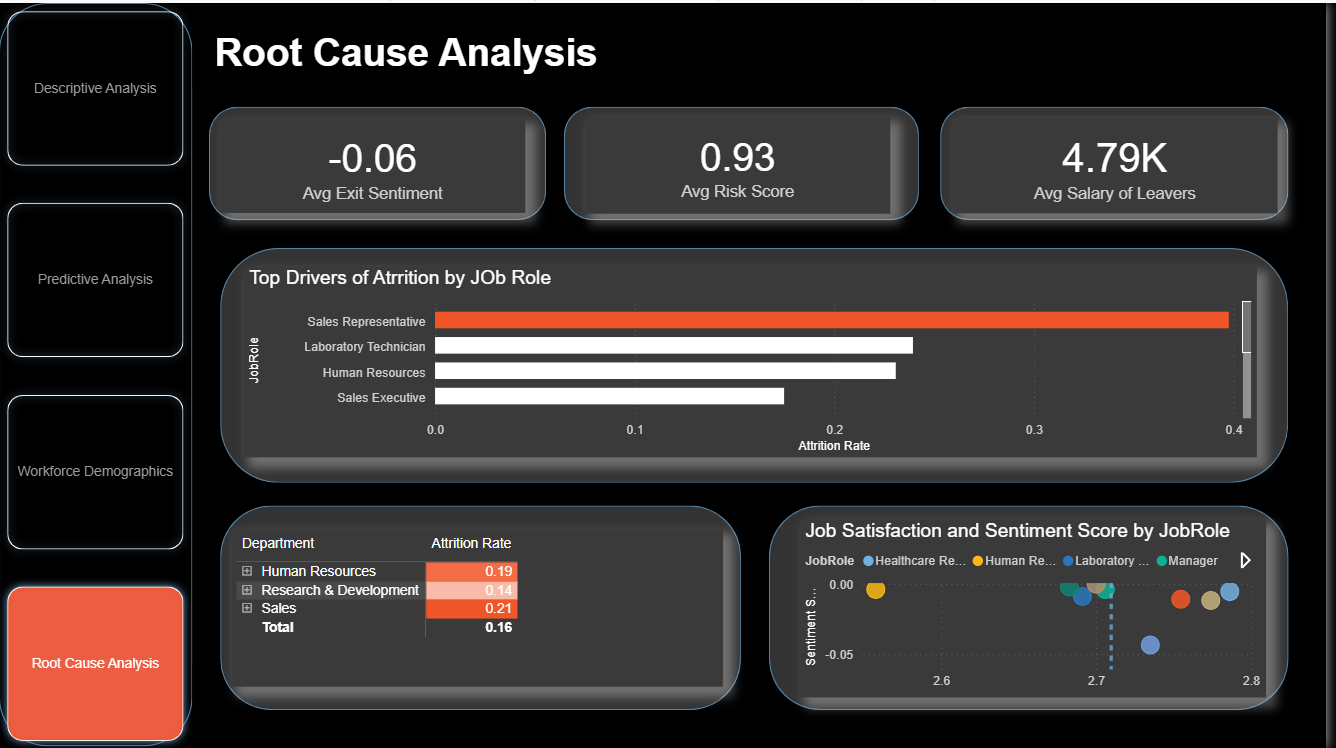

This screenshot's page, from the dashboard's own definition file:
{"tool":"powerbi","page":{"name":"Root Cause Analysis","canvas":[1280,720],"ordinal":3},"visuals":[{"type":"textbox","box":[202.7,21.3,1041.3,57.3],"z":2000},{"type":"shape","box":[742.7,485.3,501.3,197.3],"z":4000},{"type":"shape","box":[0,0,186.7,717.3],"z":5000},{"type":"shape","box":[213.3,485.3,502.7,197.3],"z":6000},{"type":"shape","box":[213.3,236,1030.7,226.7],"z":7000},{"type":"clusteredBarChart","title":"Top Drivers of Atrrition by JOb Role","fields":{"Category":["hr_project employee_data.JobRole"],"Y":["hr_project employee_data.Attrition Rate"]},"box":[236,254.7,977.3,184],"z":8000},{"type":"scatterChart","fields":{"X":["Avg(hr_project employee_data.JobSatisfaction)"],"Y":["Avg(hr_project ml_scores.SentimentScore)"],"Series":["hr_project employee_data.JobRole"]},"box":[773.3,498.7,449.3,172],"z":9000},{"type":"pivotTable","fields":{"Rows":["hr_project employee_data.Department","hr_project employee_data.JobRole","hr_project employee_data.WorkLifeBalance"],"Values":["hr_project employee_data.Attrition Rate"]},"box":[224,508,474.7,152],"z":10000},{"type":"shape","box":[202.7,100,325.3,109.3],"z":11000},{"type":"shape","box":[545.3,100,342.7,109.3],"z":13000},{"type":"shape","box":[908,100,336,109.3],"z":14000},{"type":"card","fields":{"Values":["Avg(hr_project ml_scores.FlightRiskScore)"]},"box":[565.3,109.3,294.7,93.3],"z":14250},{"type":"card","fields":{"Values":["Avg(hr_project ml_scores.SentimentScore)"]},"box":[213.3,112,294.7,90.7],"z":14375},{"type":"card","fields":{"Values":["Avg(hr_project employee_data.MonthlyIncome)"]},"box":[920,110.7,313.3,92],"z":14500},{"type":"pageNavigator","box":[0,0,186.7,720],"z":15000}]}

Visuals, with their boxes in screenshot pixels (x1, y1, x2, y2), scaled from the page's 1280x720 canvas onto the 1336x748 screenshot:
textbox: 212,22,1298,82
shape: 775,504,1298,709
shape: 0,0,195,745
shape: 223,504,747,709
shape: 223,245,1298,481
"Top Drivers of Atrrition by JOb Role" clusteredBarChart: 246,265,1266,456
scatterChart - Avg(hr_project employee_data.JobSatisfaction) x Avg(hr_project ml_scores.SentimentScore): 807,518,1276,697
pivotTable - hr_project employee_data.Department x hr_project employee_data.JobRole: 234,528,729,686
shape: 212,104,551,217
shape: 569,104,927,217
shape: 948,104,1298,217
card - Avg(hr_project ml_scores.FlightRiskScore): 590,114,898,210
card - Avg(hr_project ml_scores.SentimentScore): 223,116,530,211
card - Avg(hr_project employee_data.MonthlyIncome): 960,115,1287,211
pageNavigator: 0,0,195,747
